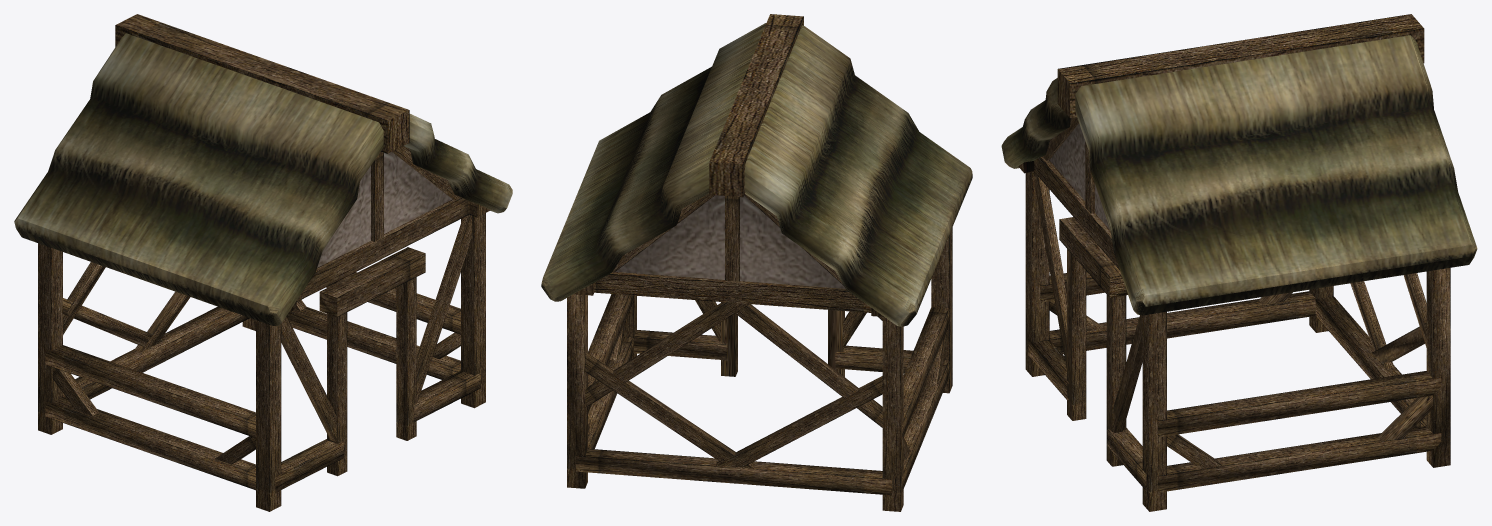
The model's file is pastureHouse.fbx.
The picture shows the model from 3 angles, left to right: view 1: azimuth 30°, elevation 25°; view 2: azimuth 150°, elevation 25°; view 3: azimuth 270°, elevation 25°; orthographic projection. The views are drawn at different scales.
Visible parts, largest first — view 1: chatka1_telo, chatka1_strecha; view 2: chatka1_telo, chatka1_strecha; view 3: chatka1_strecha, chatka1_telo.
Part boxes in pixels (left/top/right/bottom): chatka1_telo: left=38, top=14, right=490, bottom=511; chatka1_strecha: left=14, top=33, right=512, bottom=325; chatka1_telo: left=567, top=14, right=952, bottom=511; chatka1_strecha: left=541, top=23, right=972, bottom=326; chatka1_strecha: left=1001, top=35, right=1477, bottom=315; chatka1_telo: left=1018, top=14, right=1450, bottom=511.
Size of the model in its own units: 2 by 1.63 by 1.91.
Materials: 2 (2 with a texture image).
